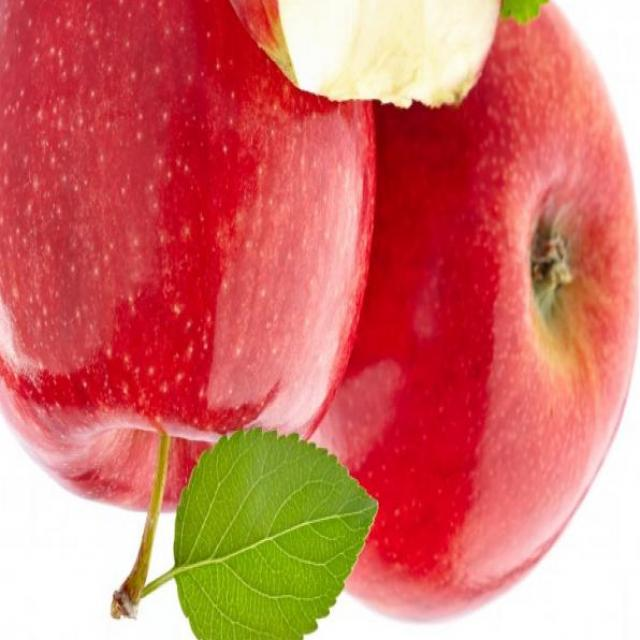apple: (227, 0, 640, 613), (0, 0, 378, 511)
